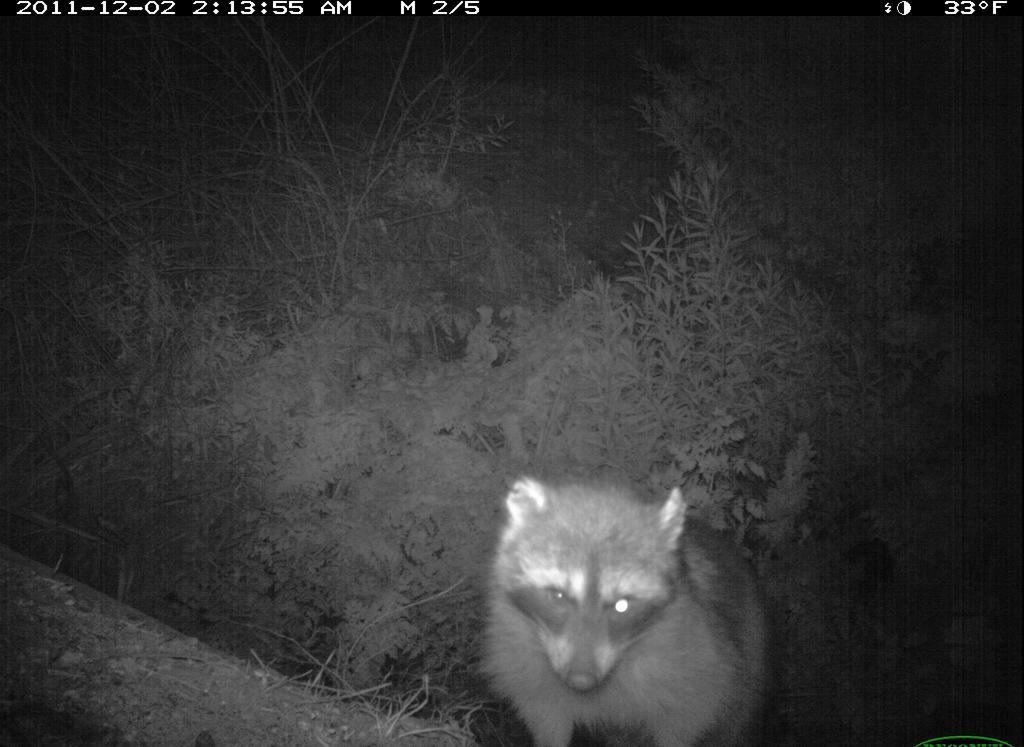raccoon: (478, 447, 795, 747)
